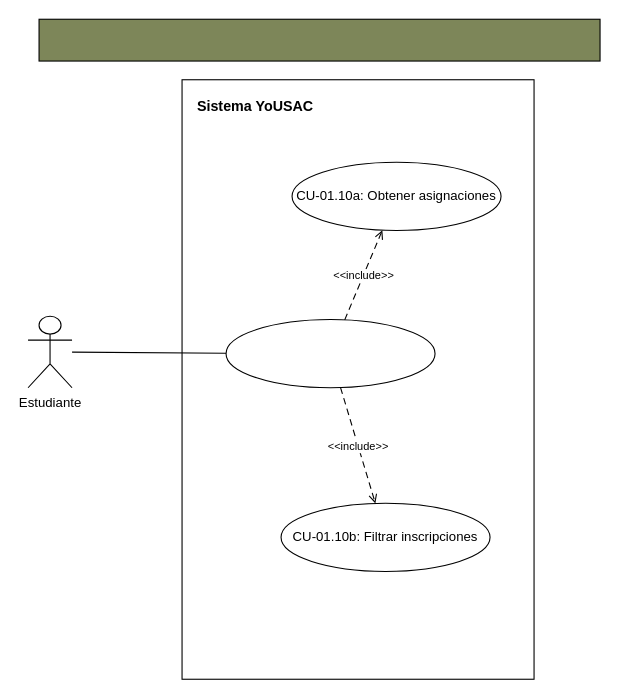
Image size: 619x699. Some labels were removed from this diagram. Each missing label, with the centre of its shape:
CU-01.10: Consultar cursos inscritos: the point at 330,353
Plataforma YoUSAC — CU-01.10 — Consultar cursos inscritos: the point at 319,39
